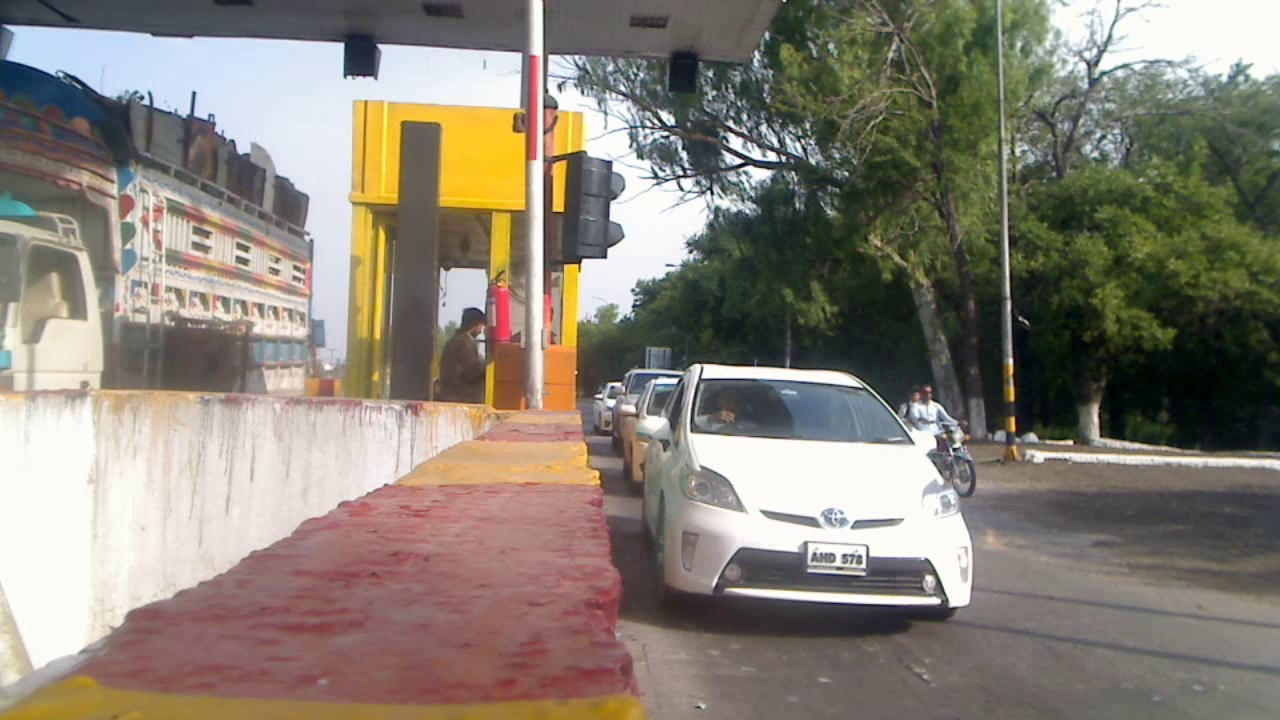Number Plate (Car): (808, 543, 863, 575)
